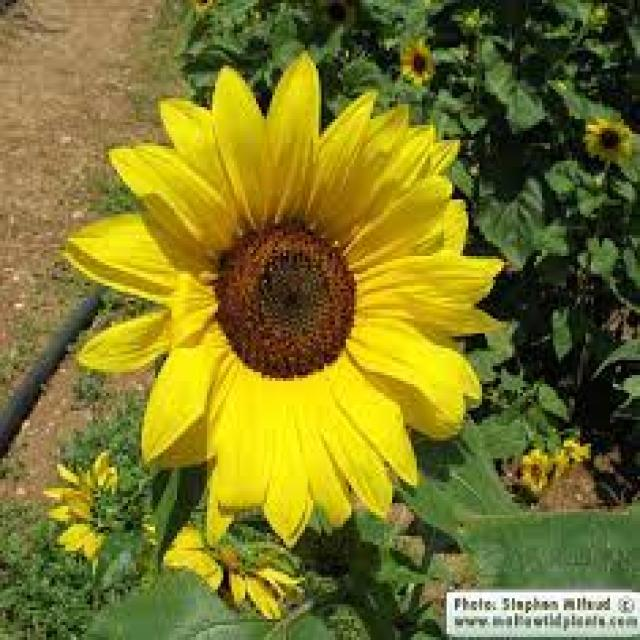sunflower: (59, 44, 513, 550), (160, 514, 310, 622), (47, 453, 134, 560), (582, 116, 636, 166), (513, 446, 554, 494), (397, 40, 439, 85), (493, 451, 521, 479)
